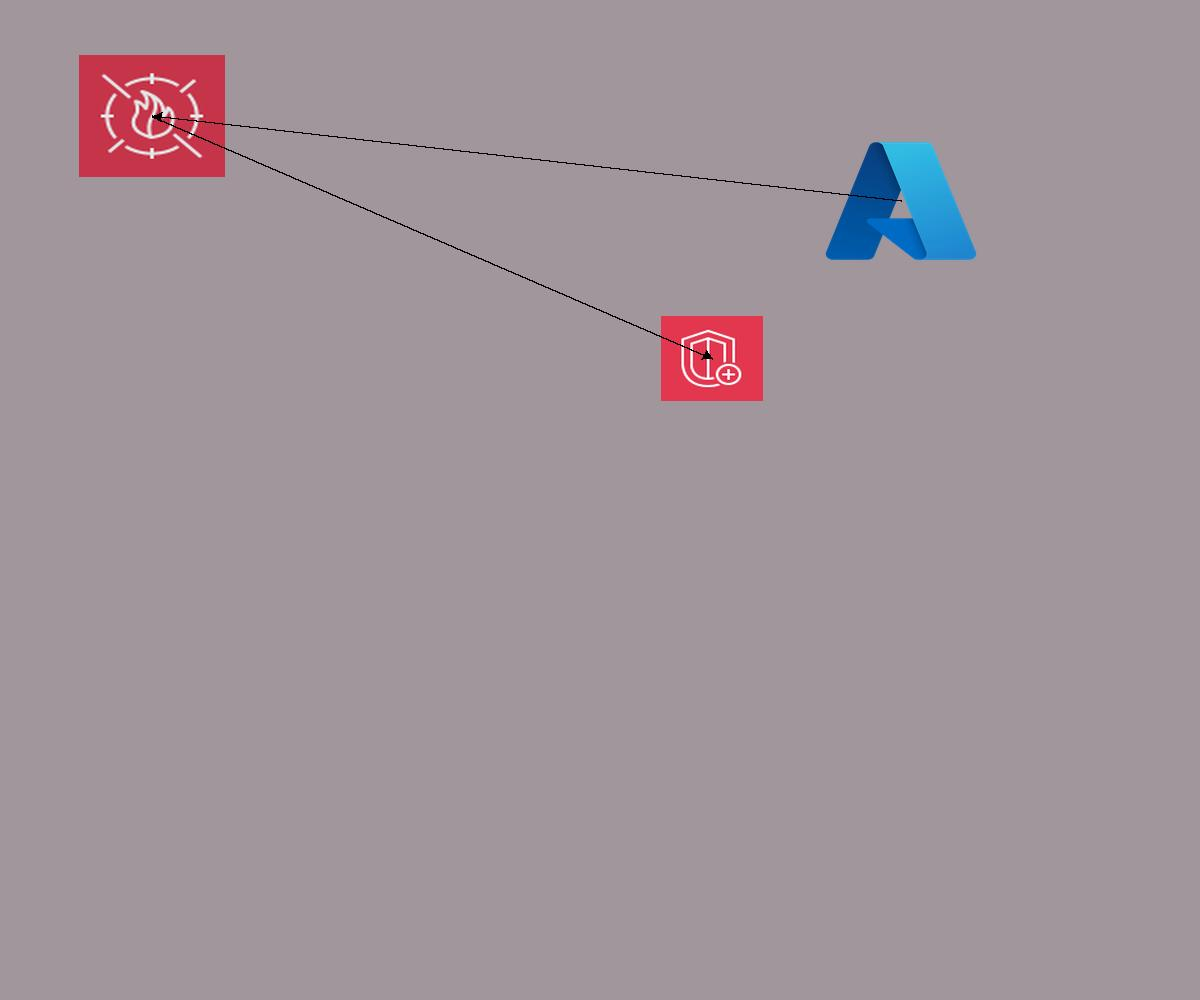AWS-Shield: (661, 316, 763, 401)
AWS-WAF: (79, 55, 225, 177)
Azure_services: (819, 133, 983, 269)
